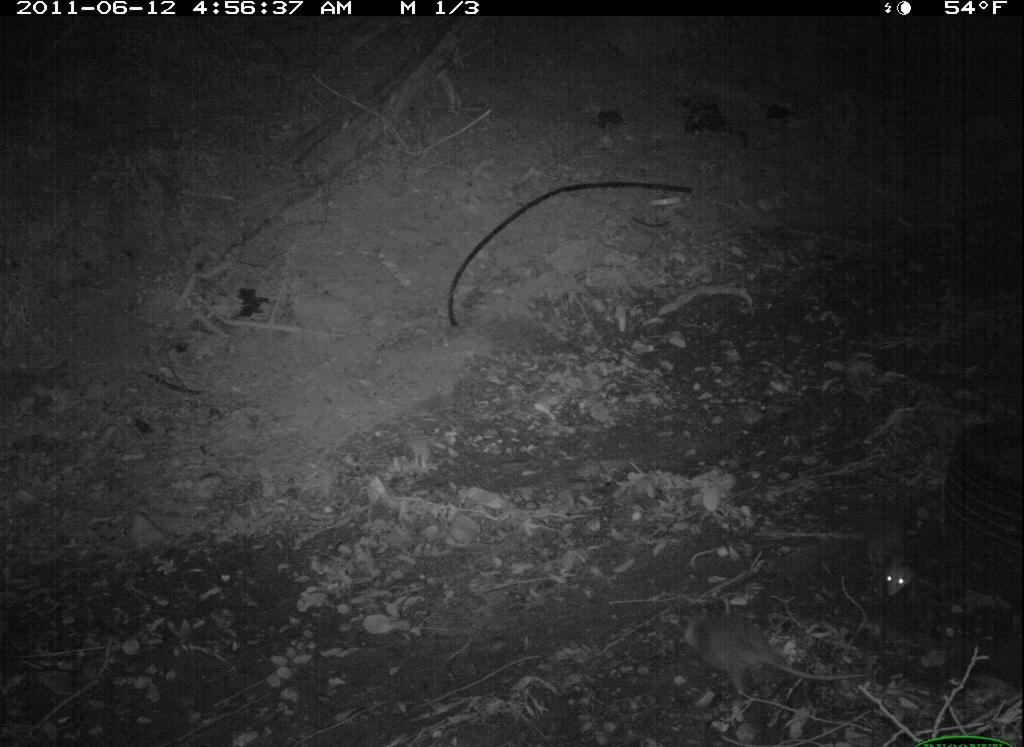opossum: (662, 600, 876, 706), (850, 504, 929, 610)
